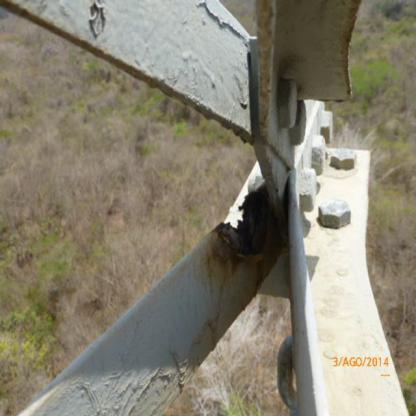Grado3: (224, 198, 282, 285)
